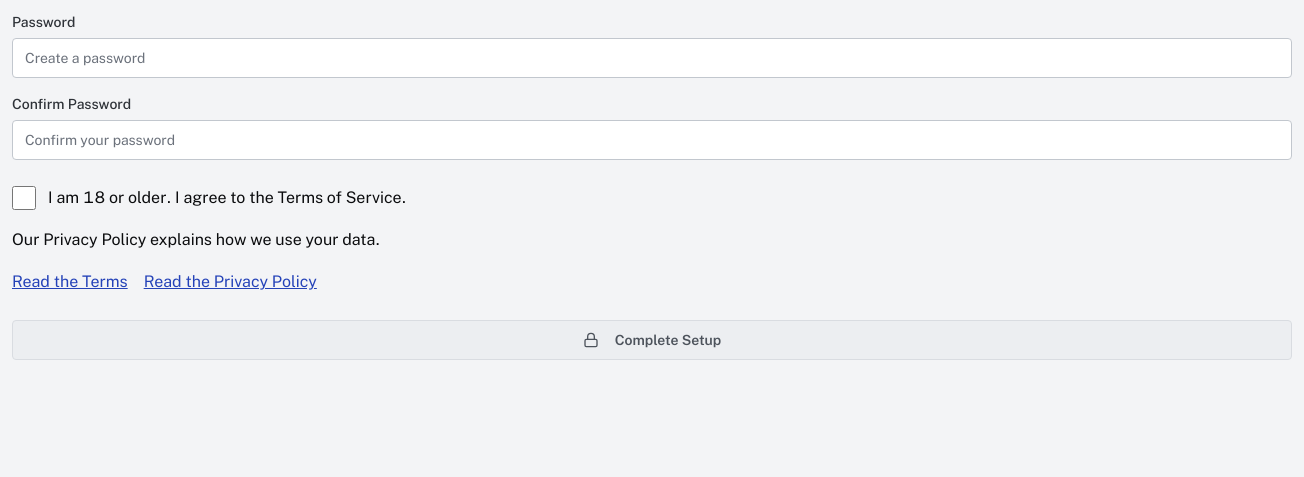
Scenario: agreement forms and sheets › F2 record errors stop password changes
Type "Password123" into the password field labelled "Password".
click(652, 58); type("Password123")  # box [12,38,1292,78]
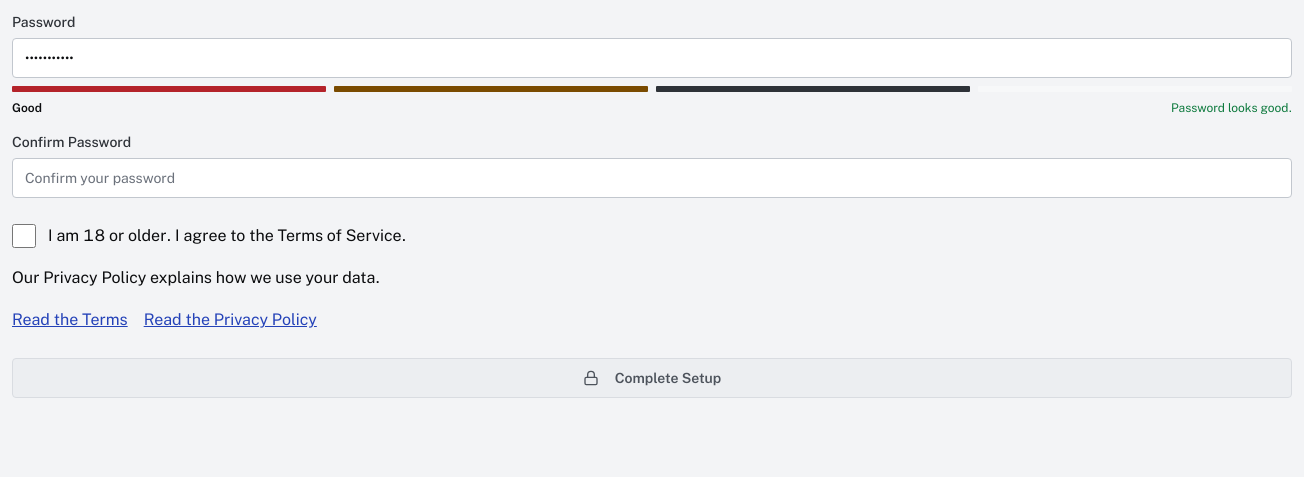
Type "Password123" into the password field labelled "Confirm Password".
click(652, 178); type("Password123")  # box [12,158,1292,198]
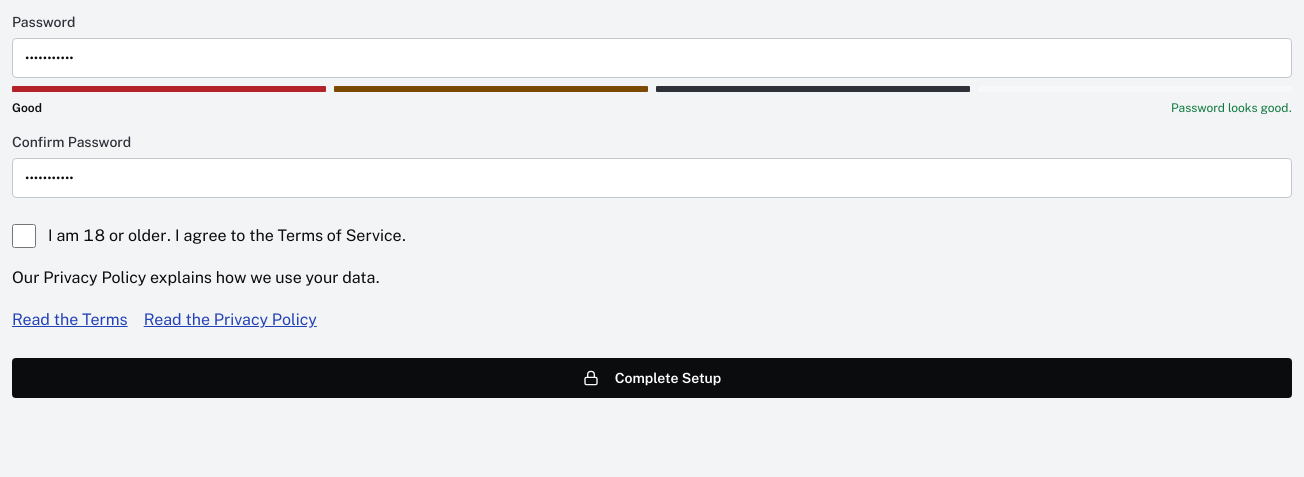
Click the checkbox labelled "I am 18 or older. I agree to the Terms of Service.".
click(24, 236)  # box [12,224,36,248]
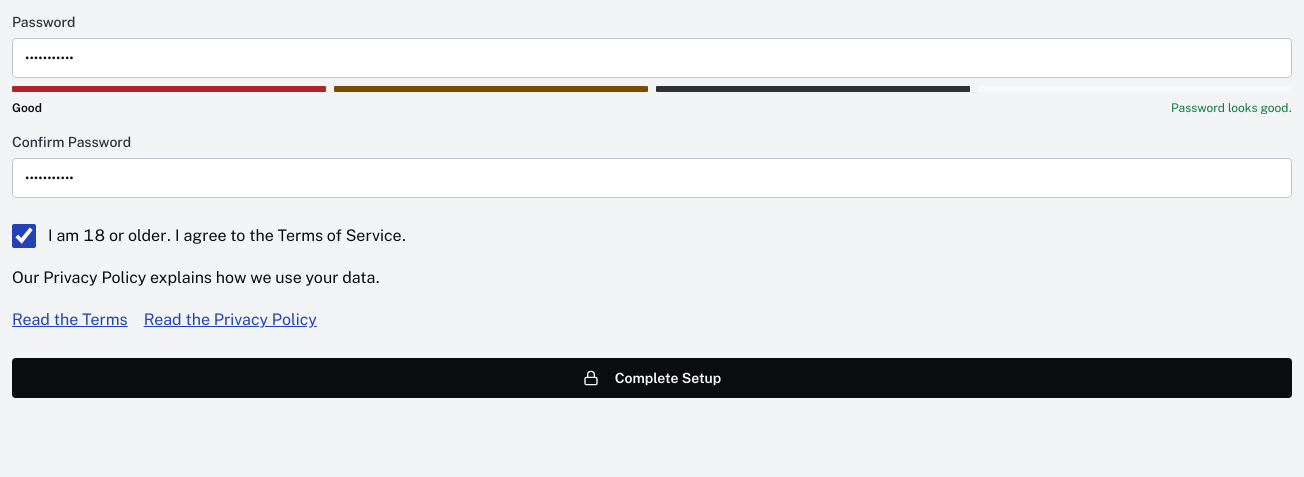
Submit the form named "Complete Setup"
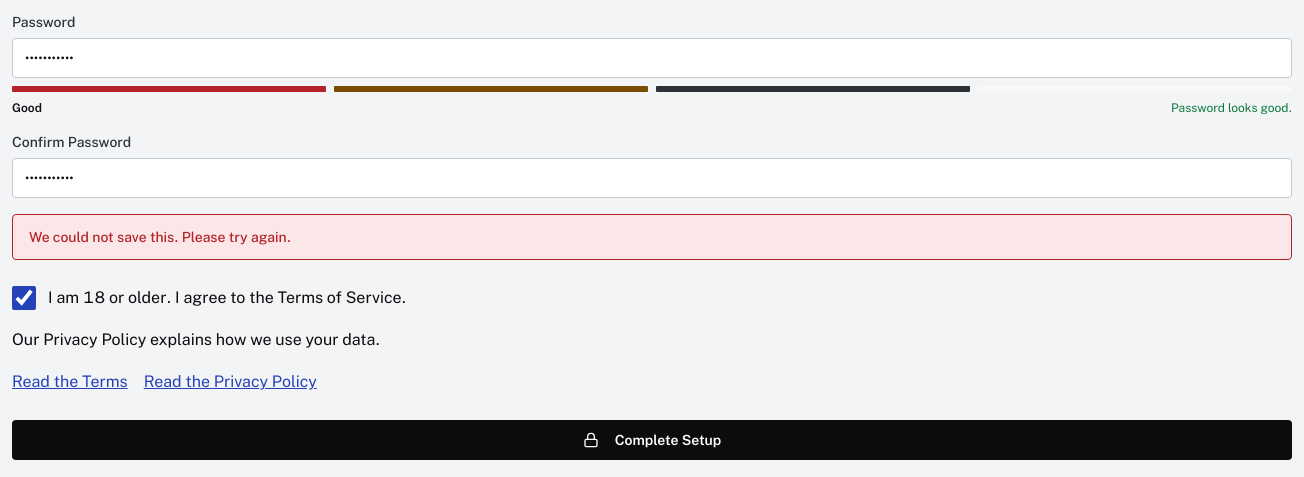
Expected: the message reads "We could not save this. Please try again.", [29,229,291,245]
